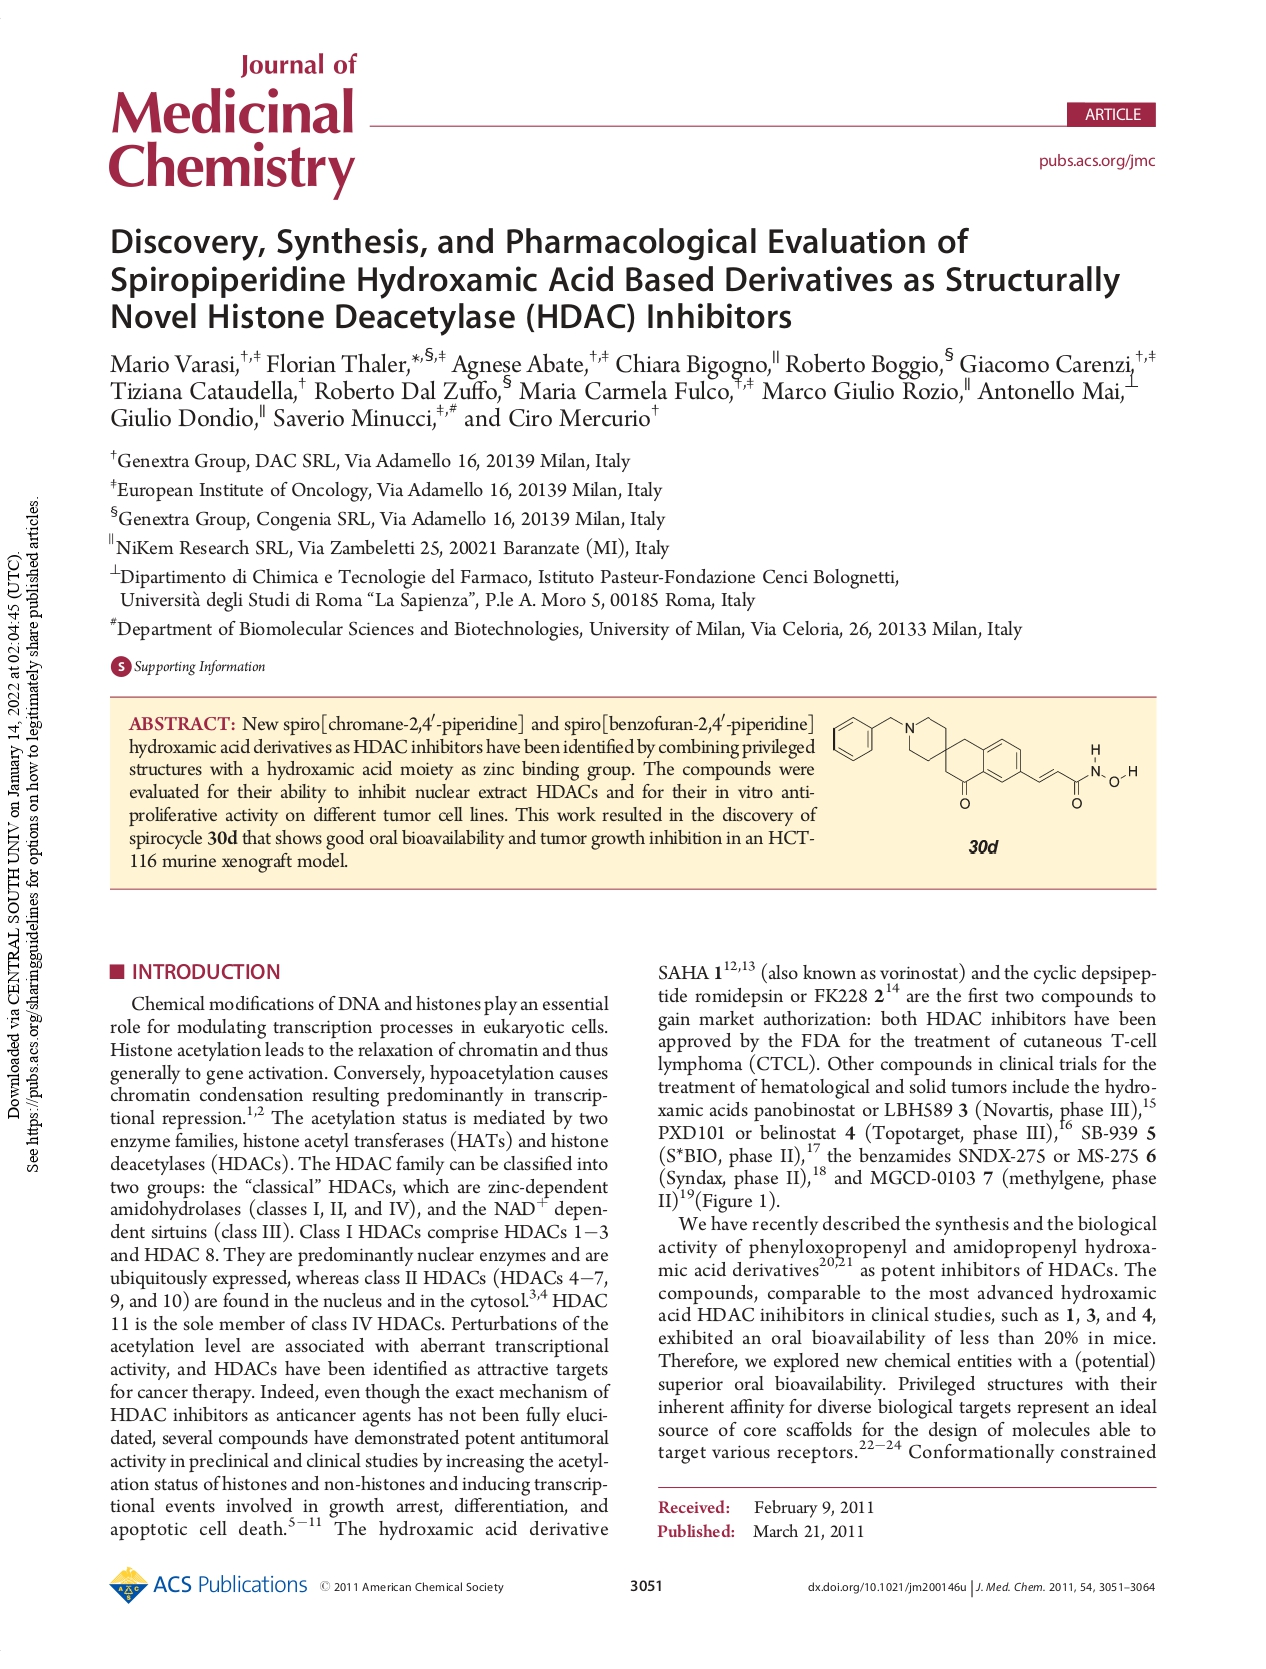exist_molecular: (830, 711, 1140, 817)
